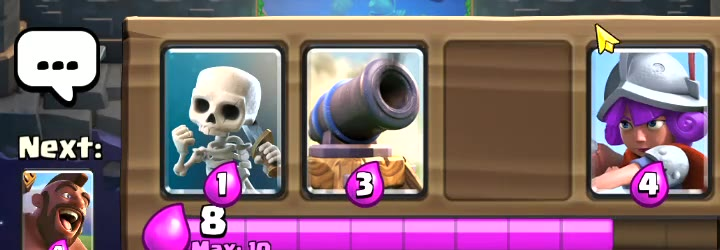cannon: (316, 50, 428, 193)
hog-rider: (23, 171, 93, 250)
musketeer: (596, 46, 710, 199)
